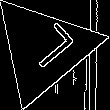L_SW: (14, 21, 75, 77)
